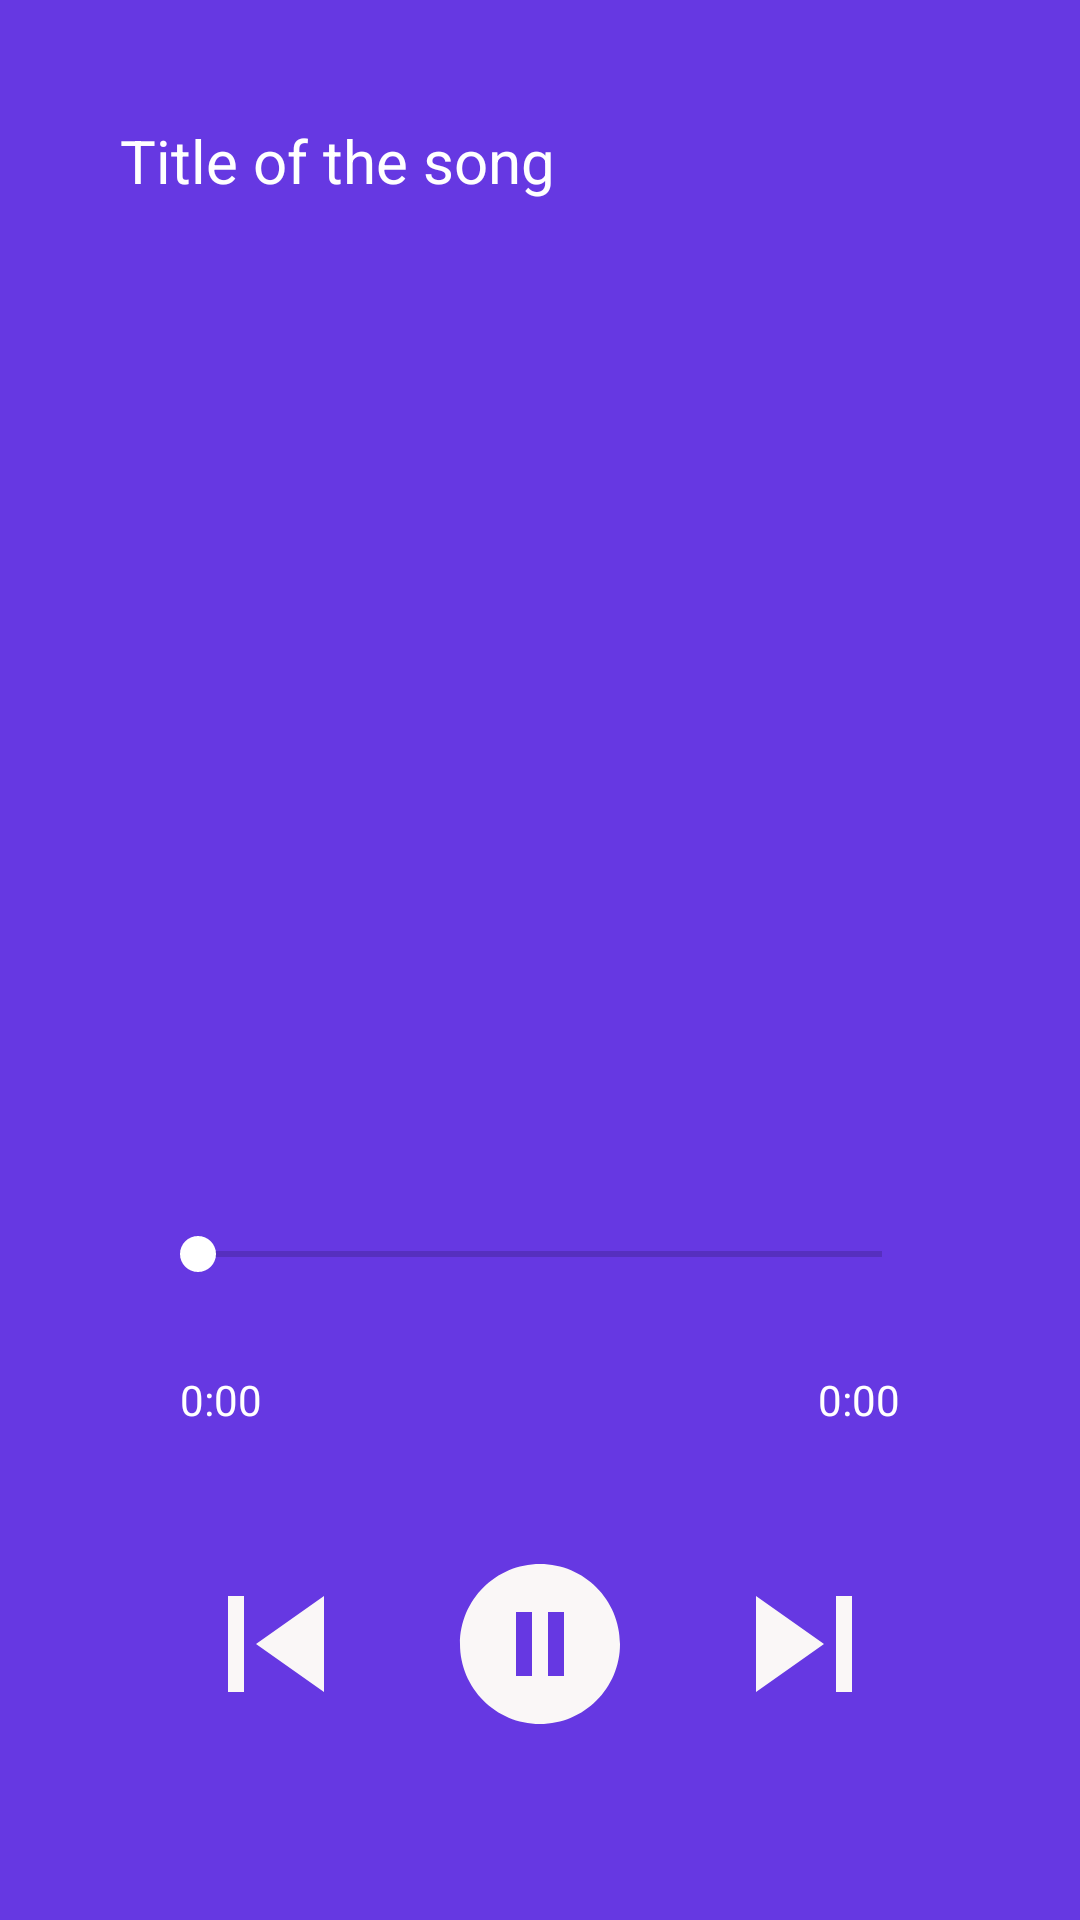

Locate icon controls on the screen. Image size 1080px×1920px, boxes as [x1, y1, x2, y2].
pause circle: [460, 1564, 620, 1724]
skip next: [756, 1596, 852, 1692]
skip previous: [228, 1596, 324, 1692]
